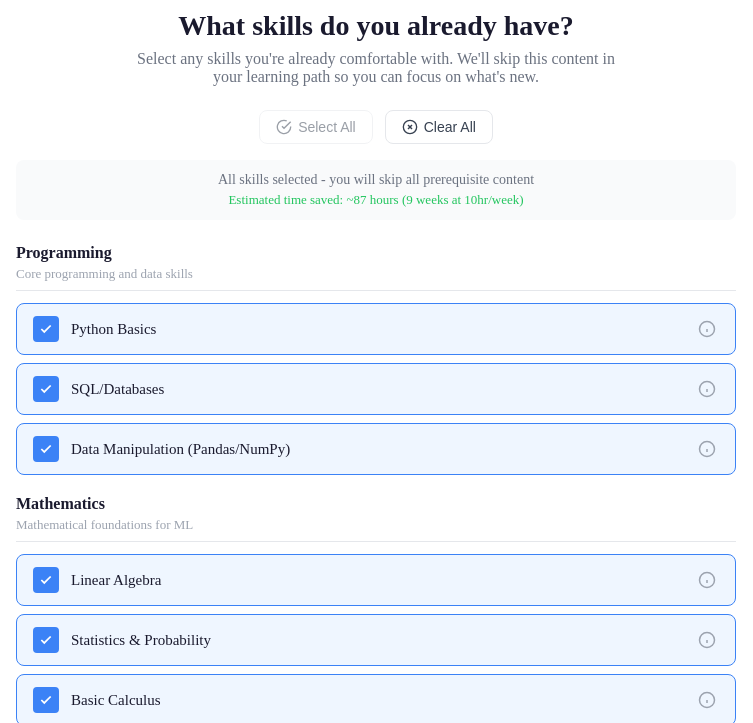
Test: Step4ExistingSkills › Clear All deselects all skills › should deselect all skills when Clear All is clicked
The width and height of the screenshot is (753, 723).
Click the button with test id "clear-all-btn" at (439, 127), box [385,110,493,144]
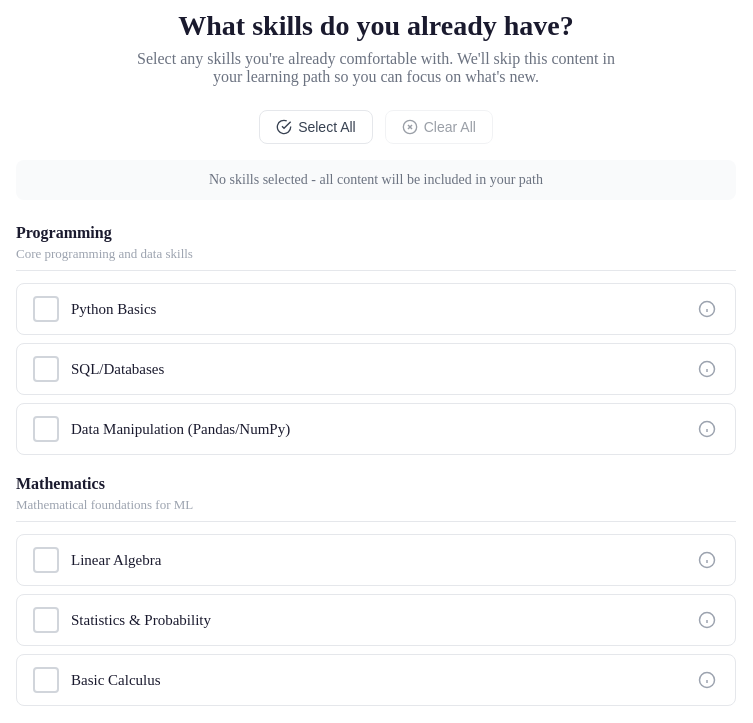
Now the checkbox with test id "skill-checkbox-python-basics" is not checked, box [33,296,719,322]
Now the checkbox with test id "skill-checkbox-linear-algebra" is not checked, box [33,547,719,573]
Now the checkbox with test id "skill-checkbox-statistics-probability" is not checked, box [33,607,719,633]
